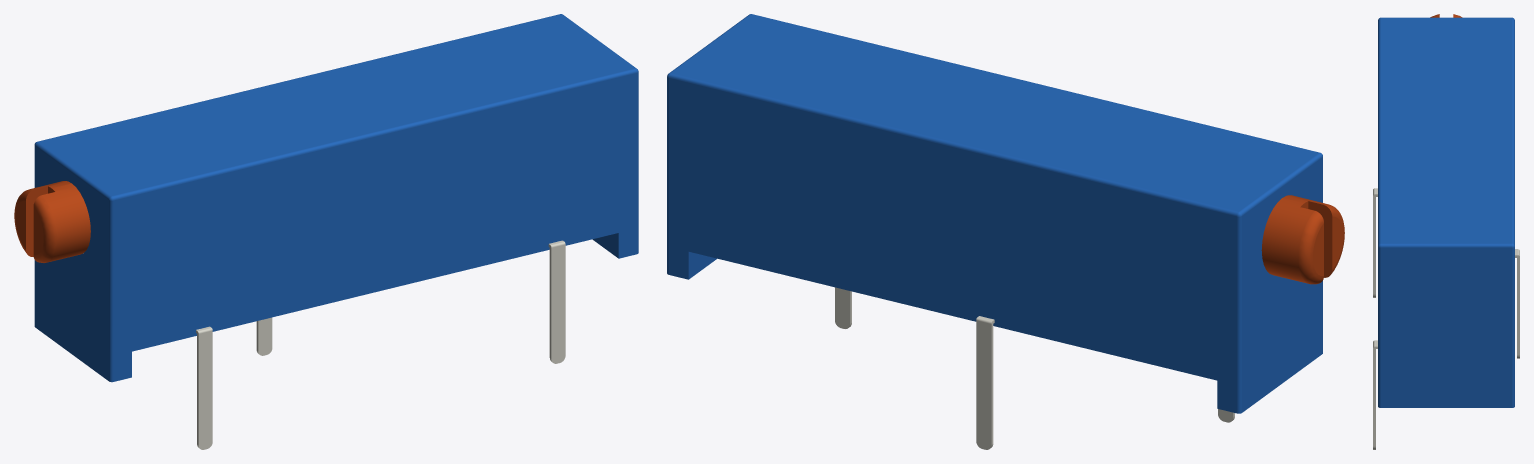
File: kc-potentiometer_bourns_3006w_horizontal.glb
3 views of the same model, side by side, from view 1: azimuth 30°, elevation 25°; view 2: azimuth 150°, elevation 25°; view 3: azimuth 270°, elevation 25° (orthographic). The views are drawn at different scales.
Parts seen in each view (by area): view 1: 0_0.16666666666666666_0.5_0, 0.4166666666666667_0.08333333333333333_0_0, 0.6666666666666666_0.6666666666666666_0.5833333333333334_0.8; view 2: 0_0.16666666666666666_0.5_0, 0.4166666666666667_0.08333333333333333_0_0, 0.6666666666666666_0.6666666666666666_0.5833333333333334_0.8; view 3: 0_0.16666666666666666_0.5_0, 0.6666666666666666_0.6666666666666666_0.5833333333333334_0.8.
Part boxes in pixels (x1,y1,x2,y2): 0_0.16666666666666666_0.5_0: [34, 14, 638, 382]; 0.4166666666666667_0.08333333333333333_0_0: [14, 181, 90, 262]; 0.6666666666666666_0.6666666666666666_0.5833333333333334_0.8: [196, 240, 565, 449]; 0_0.16666666666666666_0.5_0: [667, 14, 1322, 413]; 0.4166666666666667_0.08333333333333333_0_0: [1261, 195, 1344, 284]; 0.6666666666666666_0.6666666666666666_0.5833333333333334_0.8: [835, 287, 1234, 449]; 0_0.16666666666666666_0.5_0: [1378, 17, 1514, 407]; 0.6666666666666666_0.6666666666666666_0.5833333333333334_0.8: [1373, 188, 1519, 449].
Size of the model in its own units: 2.06 by 0.9349 by 0.518.
